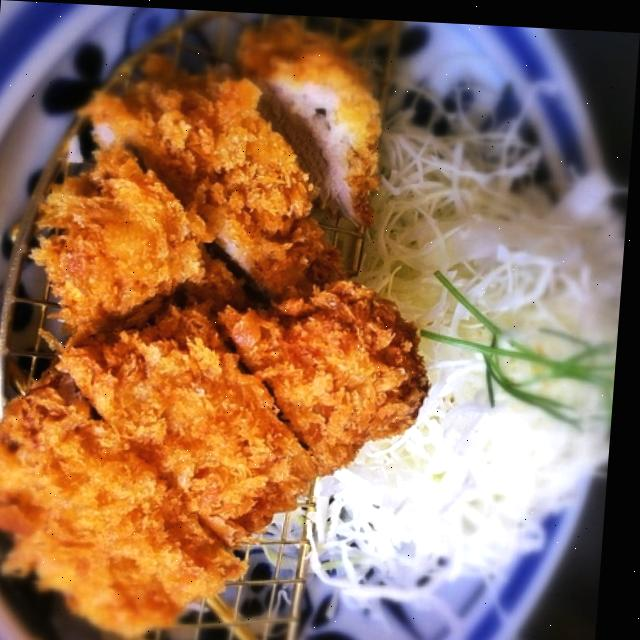牛肉菜式: (0, 7, 454, 640)
